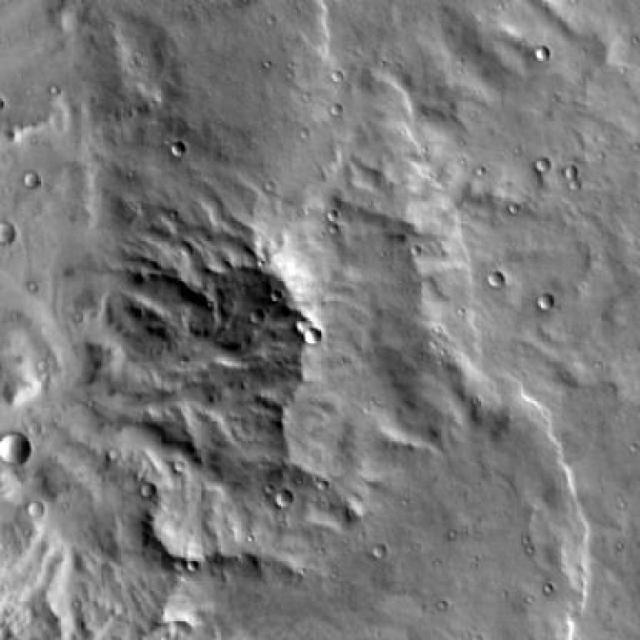crater: (264, 488, 282, 506), (15, 499, 32, 516), (533, 32, 550, 48), (527, 292, 544, 308), (12, 170, 28, 185)
